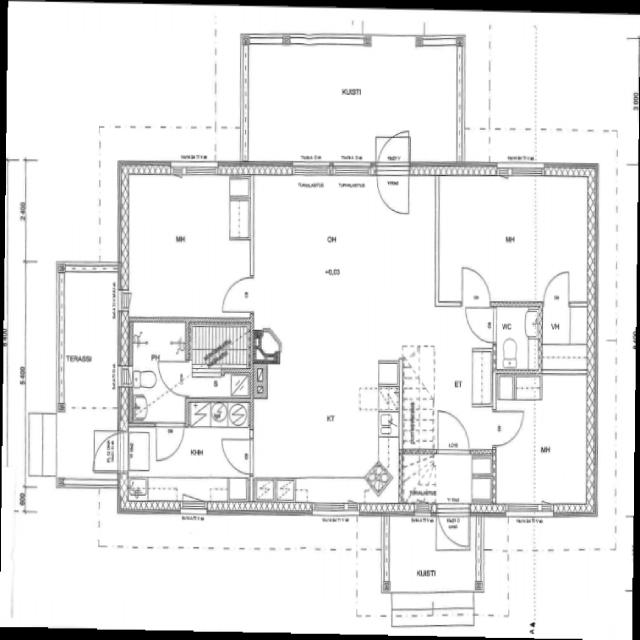door: (492, 301, 542, 372), (374, 130, 412, 217), (435, 406, 472, 456), (436, 502, 472, 551), (458, 262, 494, 310), (218, 272, 256, 315), (220, 432, 255, 476), (152, 419, 186, 464), (490, 407, 526, 448), (157, 357, 191, 400), (463, 304, 497, 346), (540, 266, 574, 306), (92, 430, 122, 474)
window: (286, 30, 367, 48), (328, 156, 376, 179), (172, 159, 222, 180), (308, 498, 359, 518), (503, 500, 553, 520), (289, 158, 335, 178), (496, 161, 544, 180), (368, 31, 418, 49), (178, 493, 210, 518)
zone: (437, 172, 594, 302), (120, 170, 250, 320), (494, 374, 594, 513), (120, 424, 251, 509), (188, 319, 252, 372), (494, 303, 542, 373), (541, 302, 591, 366), (186, 371, 250, 416), (127, 319, 189, 365), (152, 417, 194, 474), (184, 398, 252, 431), (156, 357, 192, 400), (92, 431, 122, 472)
